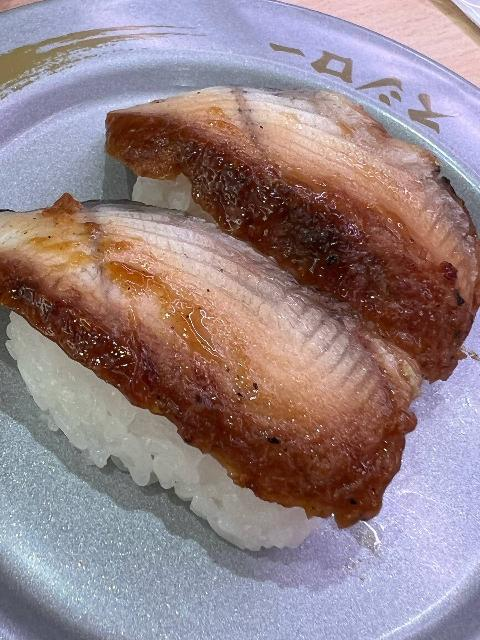janwhite: (0, 8, 480, 640)
